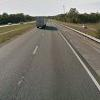Tree: (60, 5, 100, 22)
